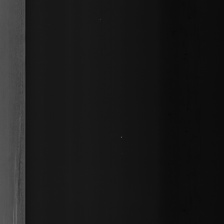silk_spot: (6, 81, 22, 220)
